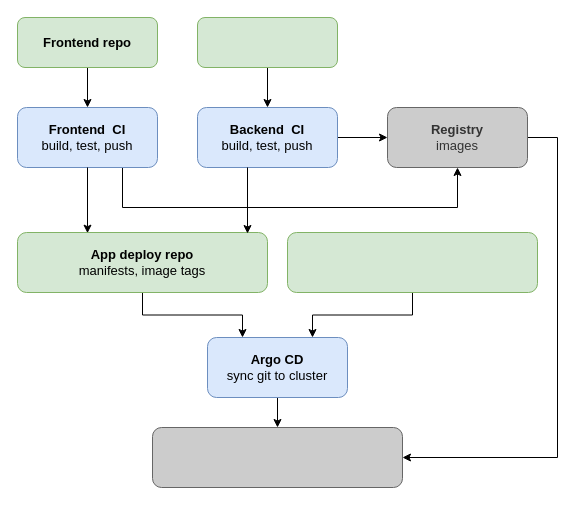
Some shapes in this 583 by 505 pixel diagram are drawn without their labels. Here are the shapes that lost their labels. From the top down, the centre of each, then its label:
At pixel 267 42: "Backend repo".
At pixel 412 262: "Cluster Platform repo Gateways, RBAC, limits".
At pixel 277 457: "Kubernetes cluster Pulls images, runs pods".
